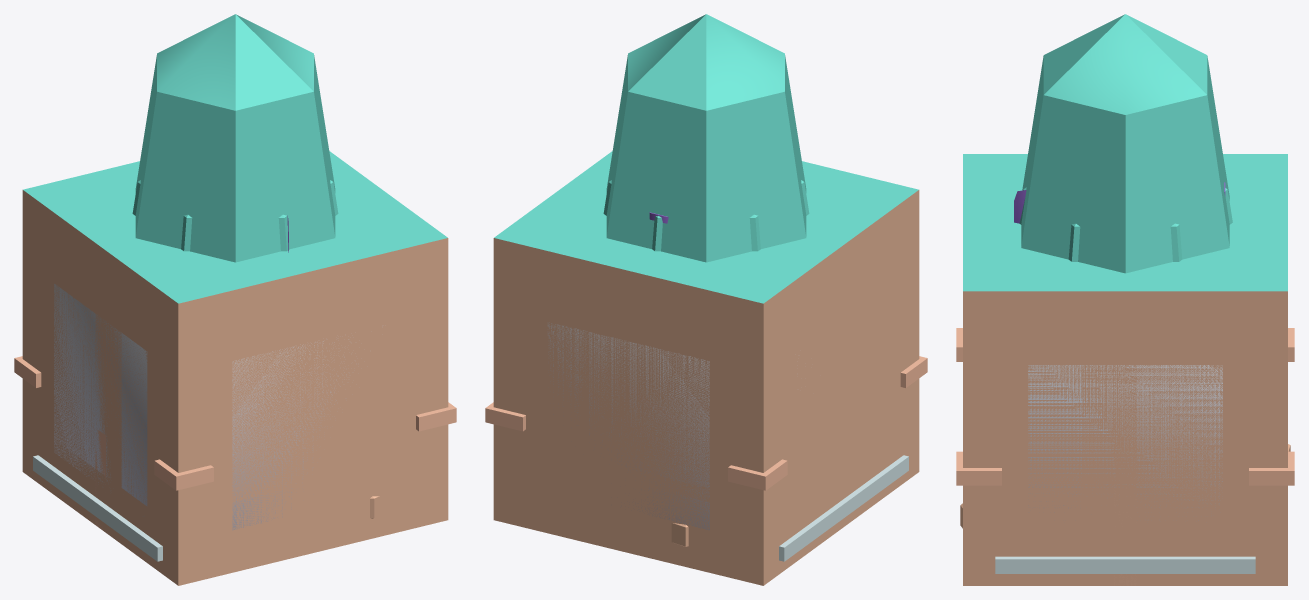
Rendered from world.glb.
The picture shows the model from 3 angles, left to right: view 1: azimuth 30°, elevation 25°; view 2: azimuth 150°, elevation 25°; view 3: azimuth 270°, elevation 25°; orthographic projection. The views are drawn at different scales.
Parts seen in each view (by area): view 1: block, treeD, cloud, bridgeR, cliffTop, bridgeW, oakB; view 2: block, treeD, cloud, bridgeR, cliffTop, oakB, bridgeW; view 3: block, treeD, cloud, bridgeR, bridgeW, cliffTop, oakB.
Part boxes in pixels (x1,y1,x2,y2): block: (22, 151, 448, 585); treeD: (135, 14, 335, 262); cloud: (54, 284, 348, 530); bridgeR: (14, 356, 456, 585); cliffTop: (95, 184, 390, 543); bridgeW: (22, 388, 353, 545); oakB: (132, 180, 338, 251); block: (493, 151, 919, 585); treeD: (606, 14, 806, 262); cloud: (547, 322, 709, 529); bridgeR: (485, 356, 927, 585); cliffTop: (572, 166, 861, 483); oakB: (603, 180, 809, 251); bridgeW: (579, 387, 919, 520); block: (963, 154, 1287, 585); treeD: (1021, 14, 1229, 273); cloud: (1028, 365, 1222, 520); bridgeR: (956, 328, 1294, 585); bridgeW: (963, 497, 1287, 585); cliffTop: (1082, 263, 1136, 585); oakB: (1019, 187, 1232, 261).
Size of the model in its own units: 1.04 by 1.76 by 1.04.
Materials: 14 (2 with a texture image).
